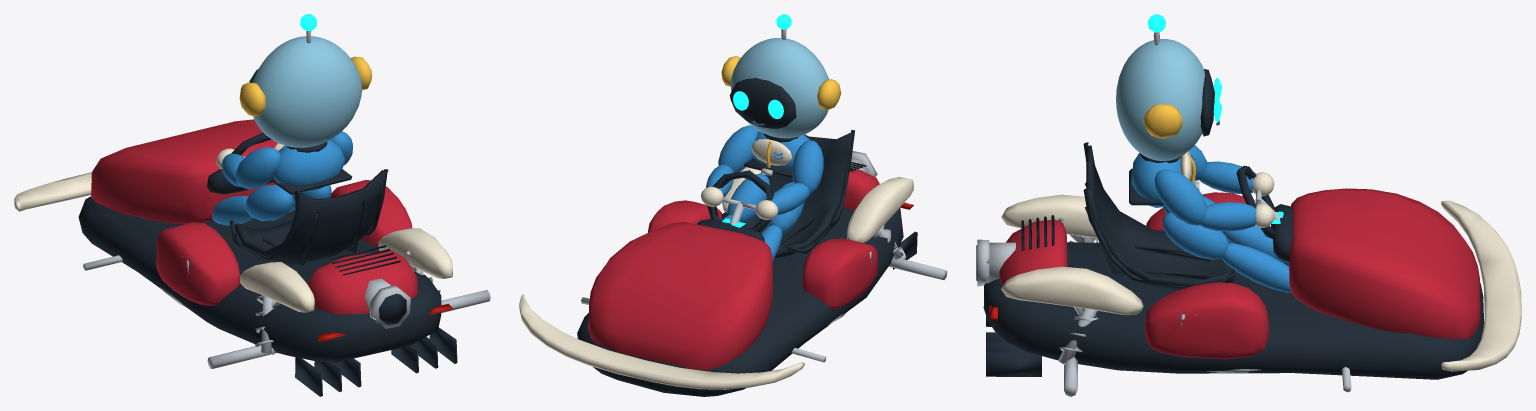
The model's file is chibi-bibo-v1.glb.
3 renders of one model, left to right at view 1: azimuth 30°, elevation 25°; view 2: azimuth 150°, elevation 25°; view 3: azimuth 270°, elevation 25°, orthographic. The views are drawn at different scales.
Visible parts, largest first — view 1: SeatRolledLip1, SculptedSideIntake1, Head, SweptFrontApron, Team double chevron.001, SuspensionCoil1, Upper sleeve, Central orange zipper; view 2: SculptedSideIntake1, SeatRolledLip1, SweptFrontApron, Head, Team double chevron.001, SuspensionCoil1, Upper sleeve, Upper sleeve.001, Central orange zipper, InstrumentScreen; view 3: SeatRolledLip1, SculptedSideIntake1, SweptFrontApron, Head, Team double chevron.001, Upper sleeve.001, SuspensionCoil1, Upper sleeve, Central orange zipper, InstrumentScreen.
Boxes of the visible parts, x1,y1,x2,y2 form: SeatRolledLip1: (78, 69, 457, 396); SculptedSideIntake1: (91, 119, 417, 314); Head: (252, 36, 362, 147); SweptFrontApron: (14, 143, 452, 312); Team double chevron.001: (212, 140, 345, 225); SuspensionCoil1: (83, 31, 490, 368); Upper sleeve: (222, 147, 280, 189); Central orange zipper: (239, 56, 371, 116); SculptedSideIntake1: (588, 169, 879, 370); SeatRolledLip1: (577, 78, 917, 396); SweptFrontApron: (519, 139, 913, 389); Head: (730, 38, 829, 138); Team double chevron.001: (722, 131, 809, 260); SuspensionCoil1: (581, 29, 947, 362); Upper sleeve: (770, 140, 823, 214); Upper sleeve.001: (706, 125, 758, 196); Central orange zipper: (721, 56, 841, 167); InstrumentScreen: (722, 14, 791, 227); SeatRolledLip1: (976, 69, 1483, 379); SculptedSideIntake1: (999, 188, 1480, 359); SweptFrontApron: (1001, 151, 1521, 371); Head: (1116, 39, 1204, 160); Team double chevron.001: (1131, 153, 1291, 292); Upper sleeve.001: (1154, 169, 1256, 231); SuspensionCoil1: (977, 32, 1351, 396); Upper sleeve: (1188, 145, 1255, 193); Central orange zipper: (1143, 104, 1195, 183); InstrumentScreen: (1147, 14, 1283, 223).
Size of the model in its own units: 1.63 by 1.53 by 2.31.
